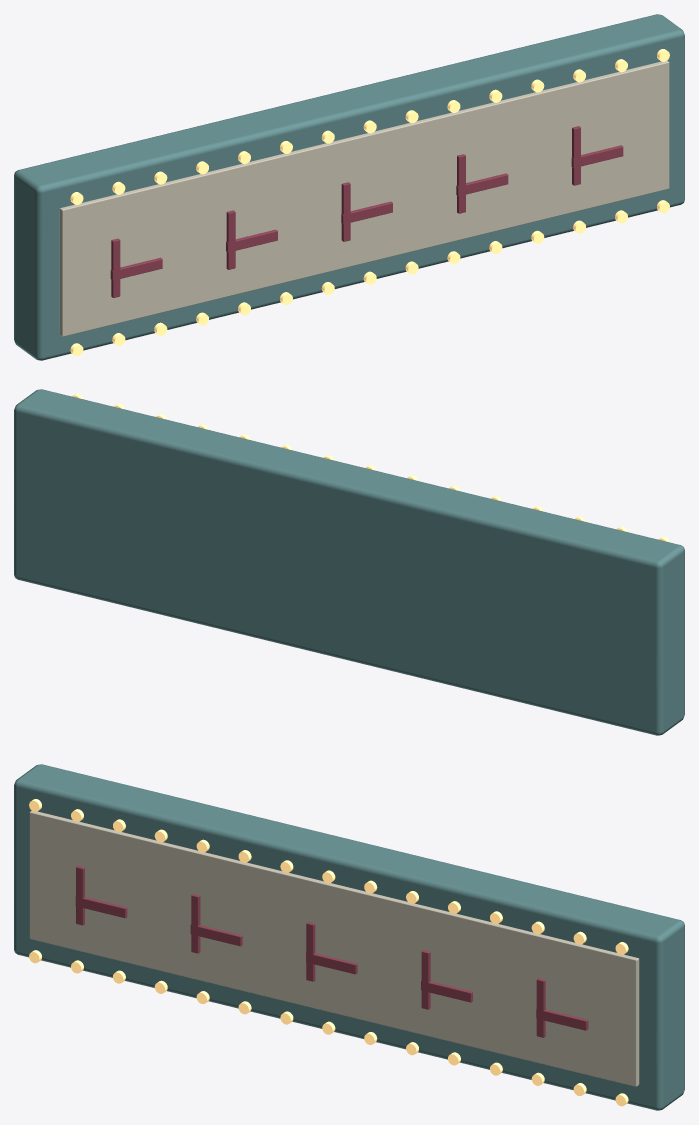
The model's file is abandoned-cinema-and-projection-booth-abandoned-cinema-ca9333eb__29693.glb.
The picture shows the model from 3 angles, top to bottom: view 1: azimuth 30°, elevation 25°; view 2: azimuth 150°, elevation 25°; view 3: azimuth 330°, elevation 25°; orthographic projection.
Parts seen in each view (by area): view 1: abandoned-cinema-and-projection-booth-marquee-sign; view 2: abandoned-cinema-and-projection-booth-marquee-sign; view 3: abandoned-cinema-and-projection-booth-marquee-sign.
Boxes of the visible parts, left/top/right/bottom form: abandoned-cinema-and-projection-booth-marquee-sign: left=14, top=14, right=684, bottom=360; abandoned-cinema-and-projection-booth-marquee-sign: left=14, top=389, right=684, bottom=735; abandoned-cinema-and-projection-booth-marquee-sign: left=14, top=764, right=684, bottom=1110.
Bounding box in the file's own units: 3.1 × 0.8001 × 0.2919.
